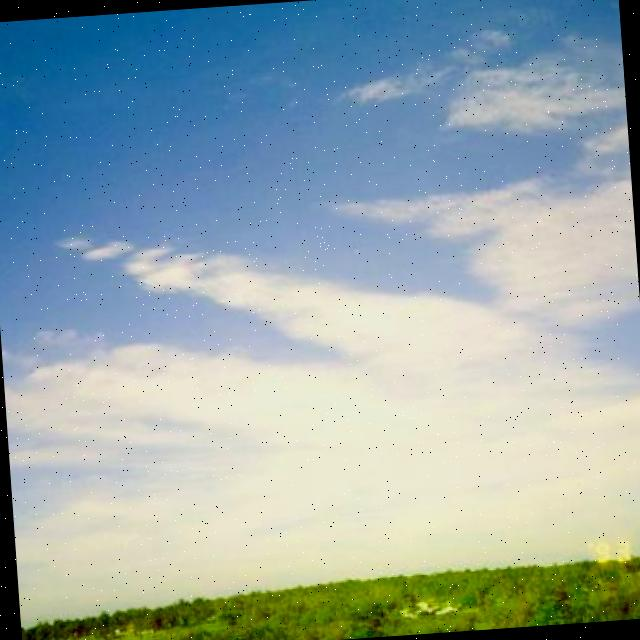Cs: (1, 125, 640, 546)
